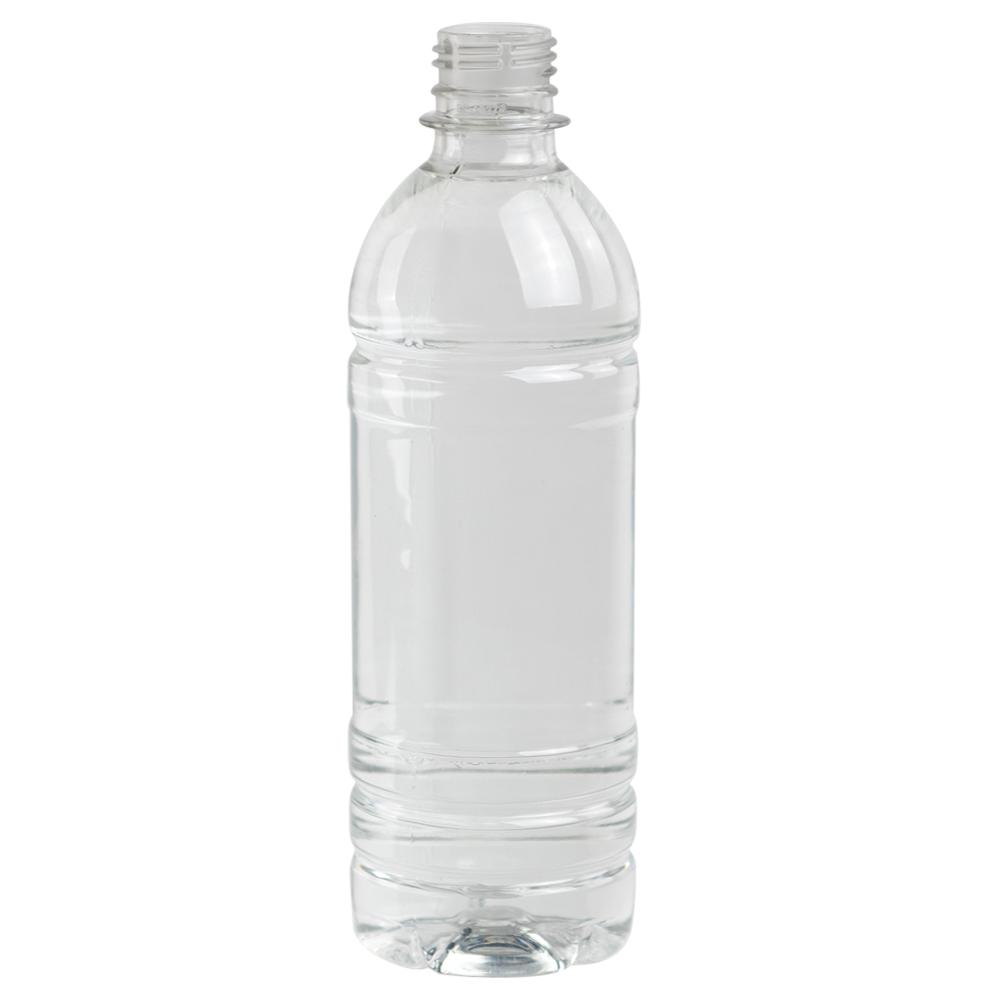bottle: (318, 0, 683, 990)
